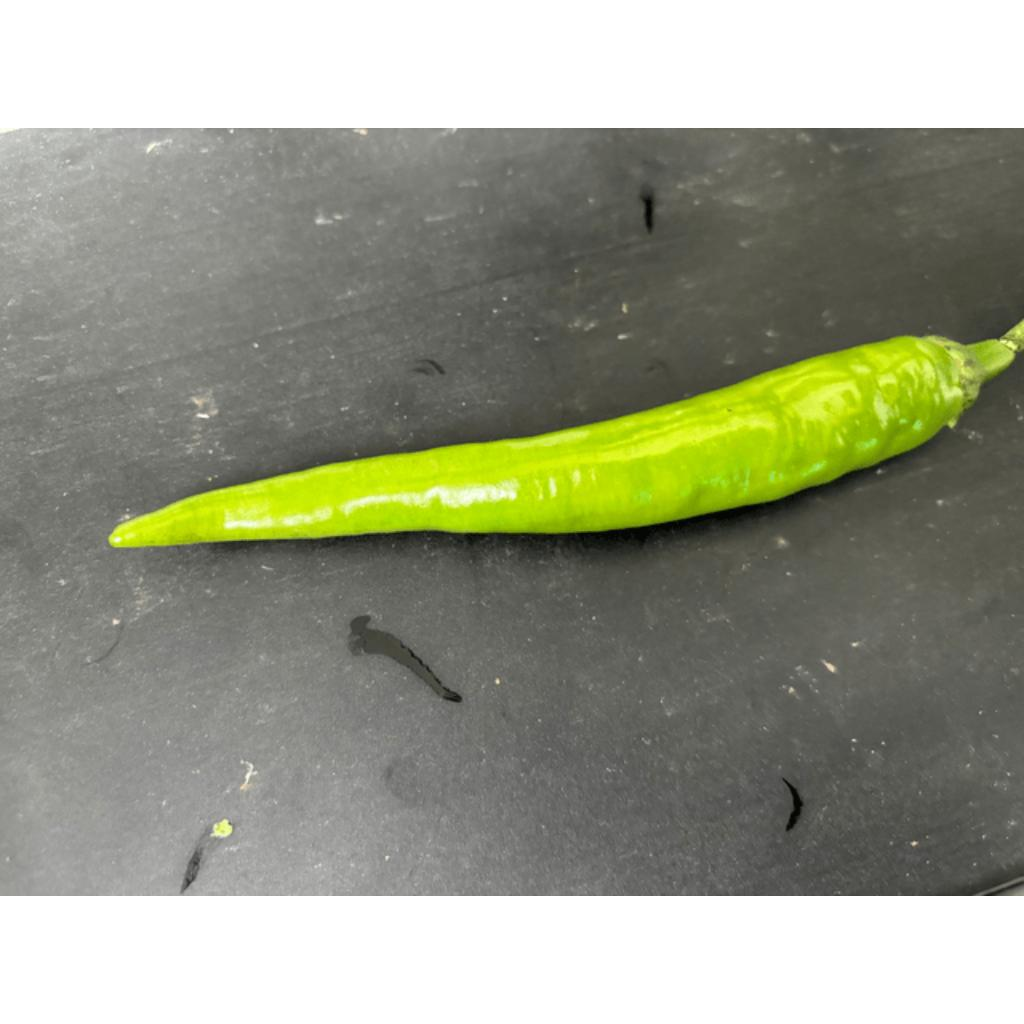chili: (105, 334, 985, 551)
